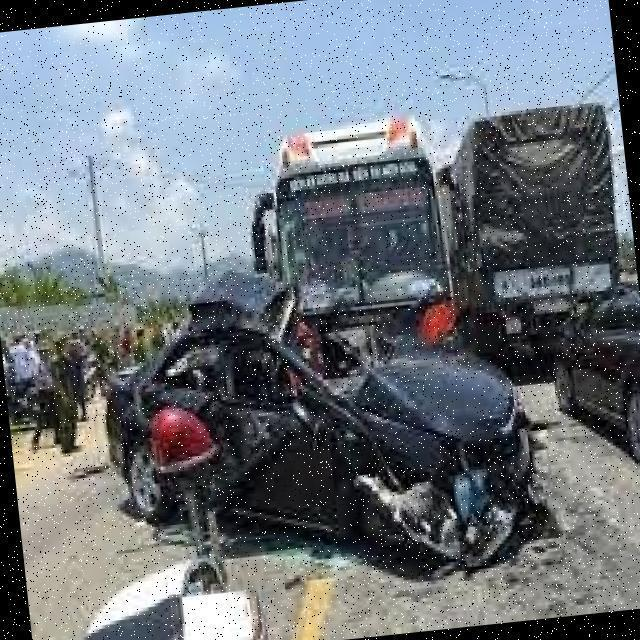accident: (97, 241, 589, 626)
